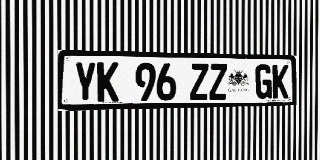6: (156, 63, 176, 101)
9: (135, 63, 156, 101)
G: (255, 64, 272, 99)
K: (97, 62, 119, 102), (272, 64, 288, 99)
Y: (74, 62, 96, 102)
Z: (190, 63, 208, 100), (209, 64, 227, 100)
